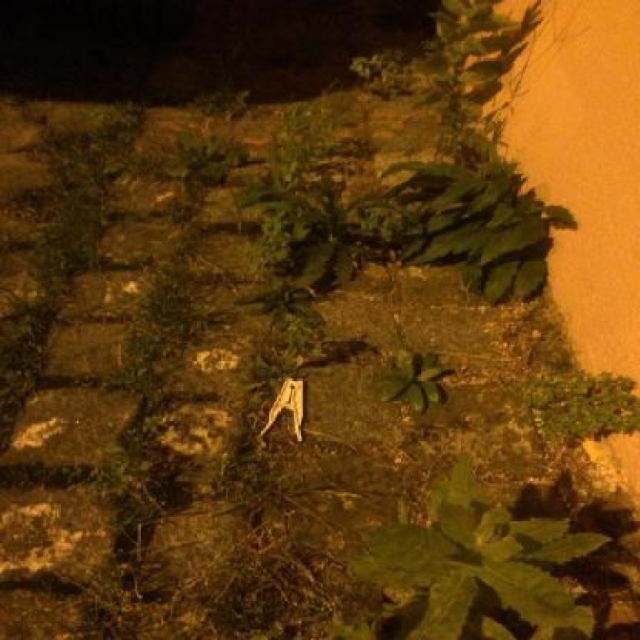plastic: (258, 378, 304, 442)
